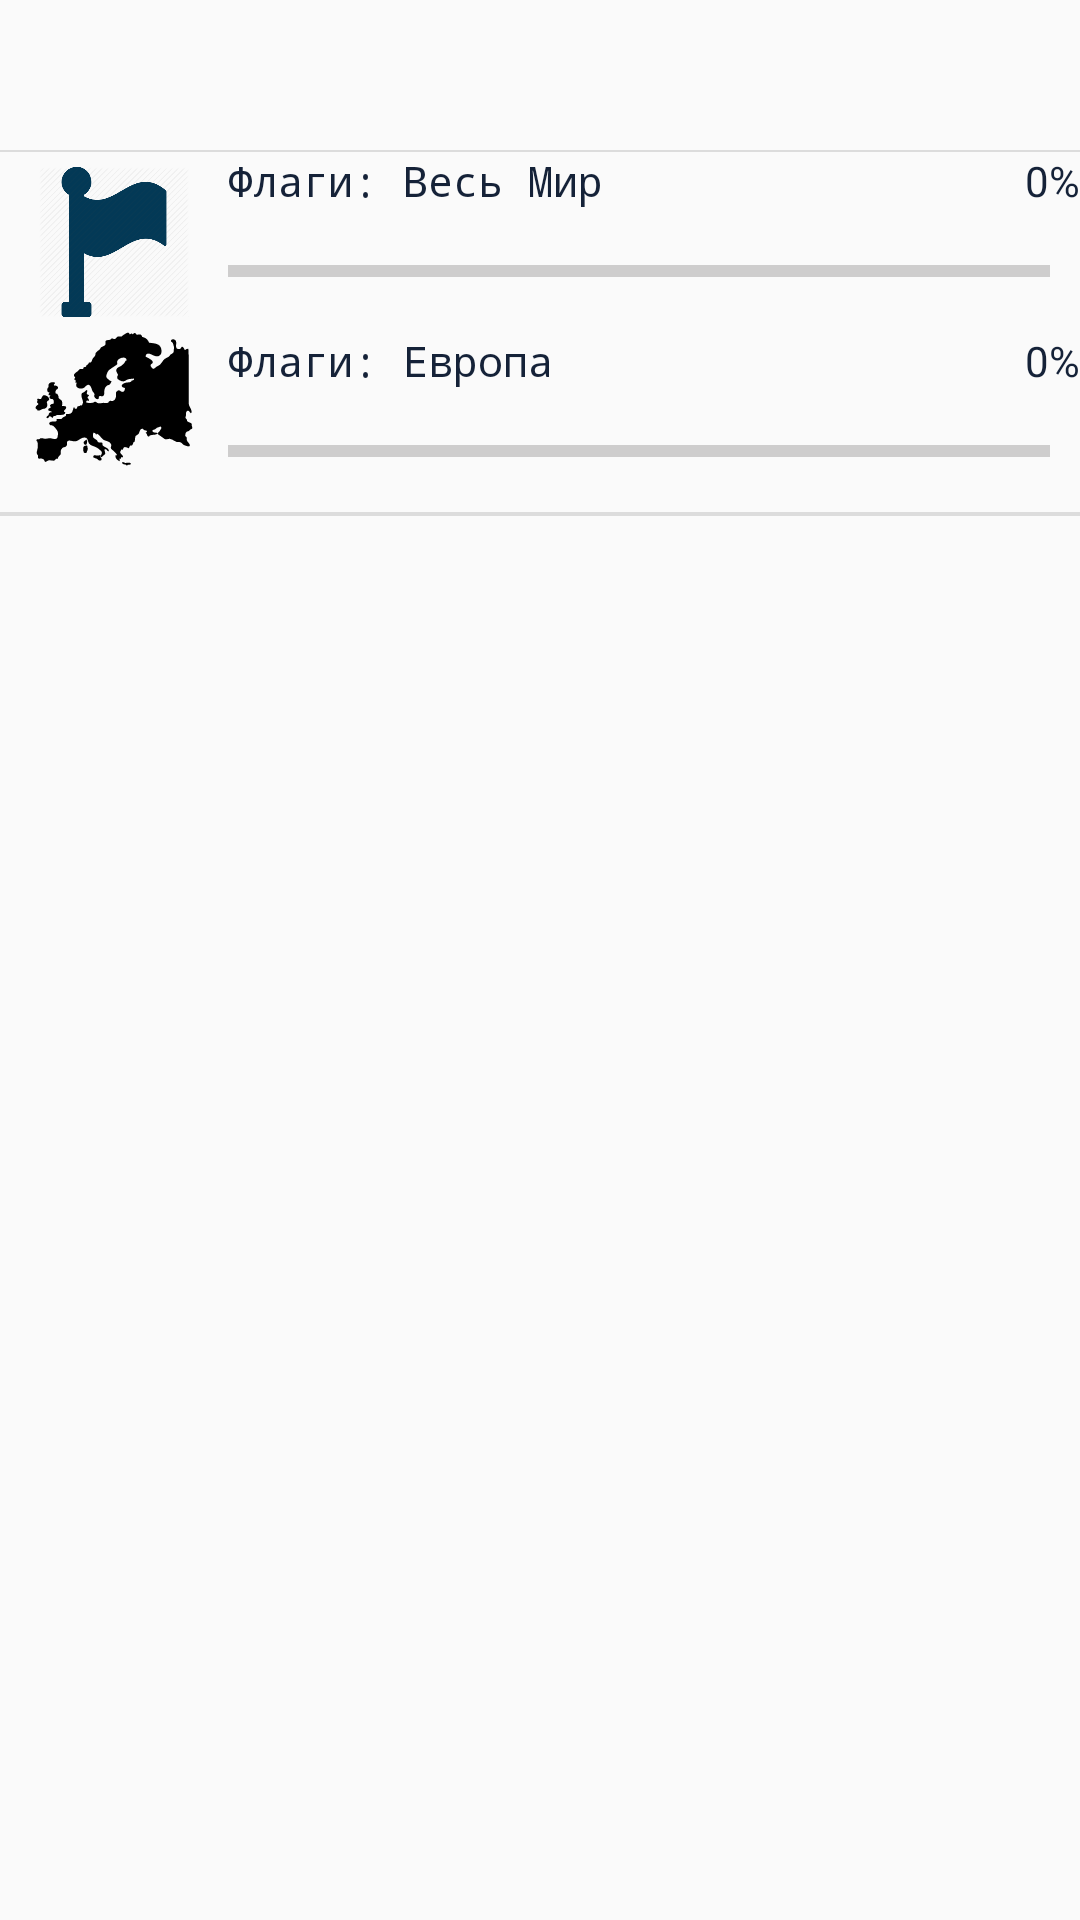

Icon click points for this 1080x1920 phone screenshot, format (x=x, y=y):
europe: (x=114, y=399)
flagss: (x=114, y=242)
